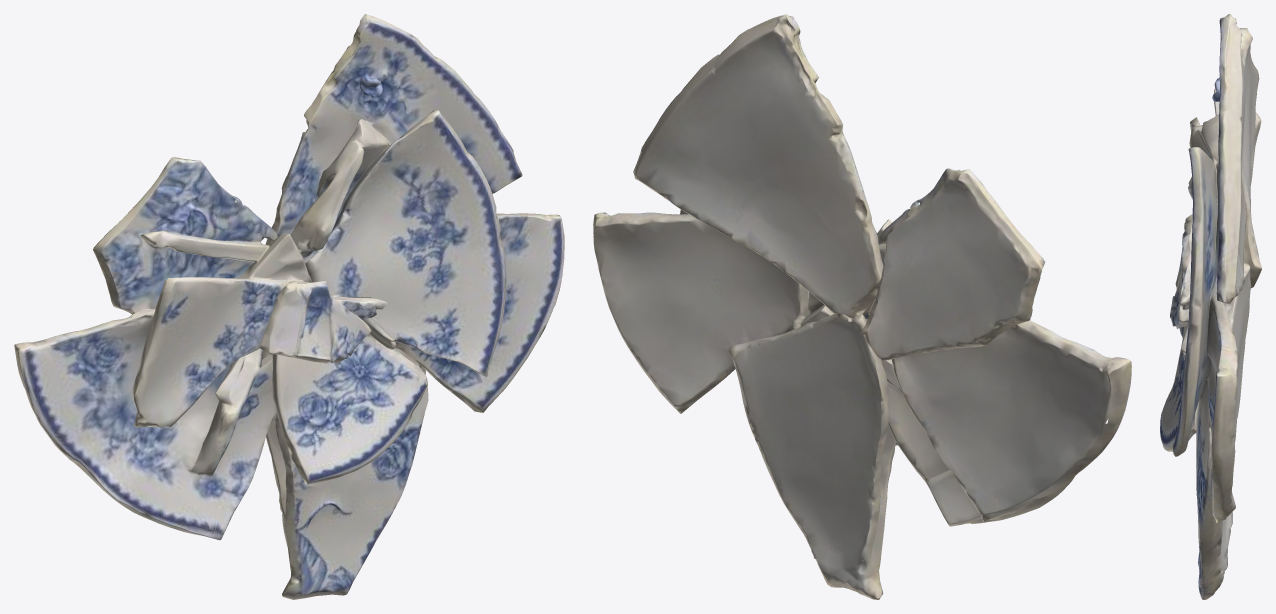
Rendered from plate-flower-m.glb.
The picture shows the model from 3 angles, left to right: view 1: azimuth 30°, elevation 25°; view 2: azimuth 150°, elevation 25°; view 3: azimuth 270°, elevation 25°; orthographic projection. The views are drawn at different scales.
Parts seen in each view (by area): view 1: tripo_node_154f371d-0f29-4396-a3b6-87bcf03d1b72; view 2: tripo_node_154f371d-0f29-4396-a3b6-87bcf03d1b72; view 3: tripo_node_154f371d-0f29-4396-a3b6-87bcf03d1b72.
Part boxes in pixels (x1,y1,x2,y2): tripo_node_154f371d-0f29-4396-a3b6-87bcf03d1b72: (14,14,564,599); tripo_node_154f371d-0f29-4396-a3b6-87bcf03d1b72: (593,14,1131,599); tripo_node_154f371d-0f29-4396-a3b6-87bcf03d1b72: (1160,14,1261,599).
Bounding box in the file's own units: 0.9791 × 0.9821 × 0.1503.
Materials: 1 (1 with a texture image).
